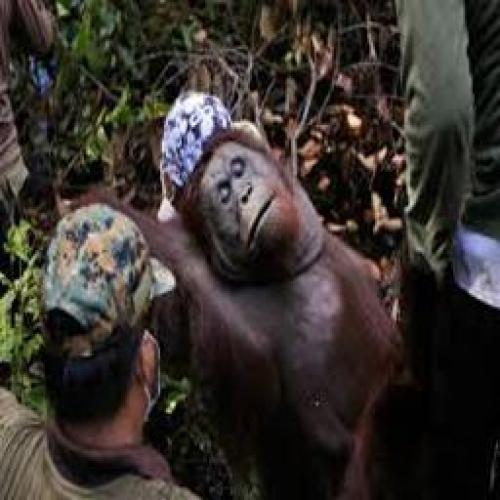orangutan-endangered: (155, 113, 406, 500)
